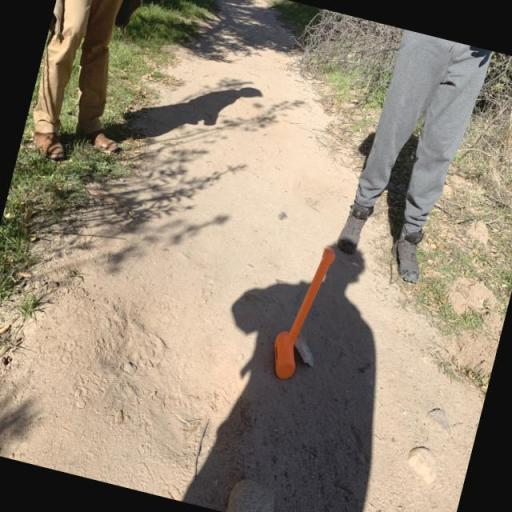mallet: (265, 239, 337, 384)
